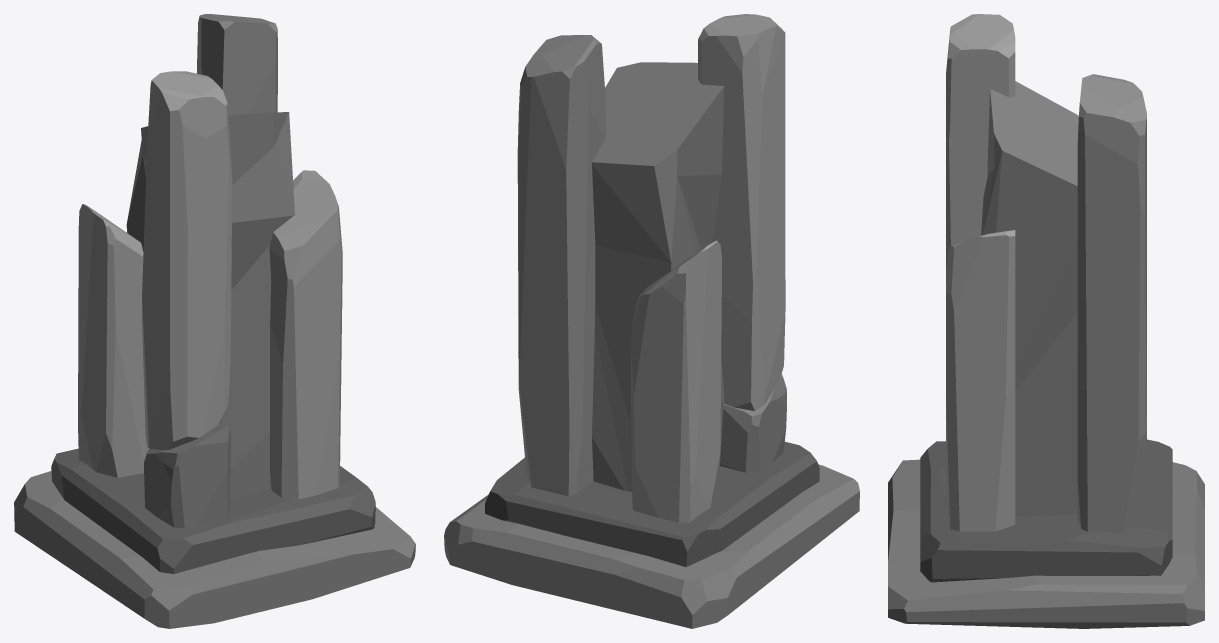
File: Pillar04.fbx
The picture shows the model from 3 angles, left to right: view 1: azimuth 30°, elevation 25°; view 2: azimuth 150°, elevation 25°; view 3: azimuth 270°, elevation 25°; orthographic projection.
Parts seen in each view (by area): view 1: LOD0; view 2: LOD0; view 3: LOD0.
Part boxes in pixels (x1,y1,x2,y2): LOD0: (14,14,415,628); LOD0: (444,14,859,628); LOD0: (888,14,1204,628).
Size of what is drawn, in the model's own units: 156 by 156 by 278.
